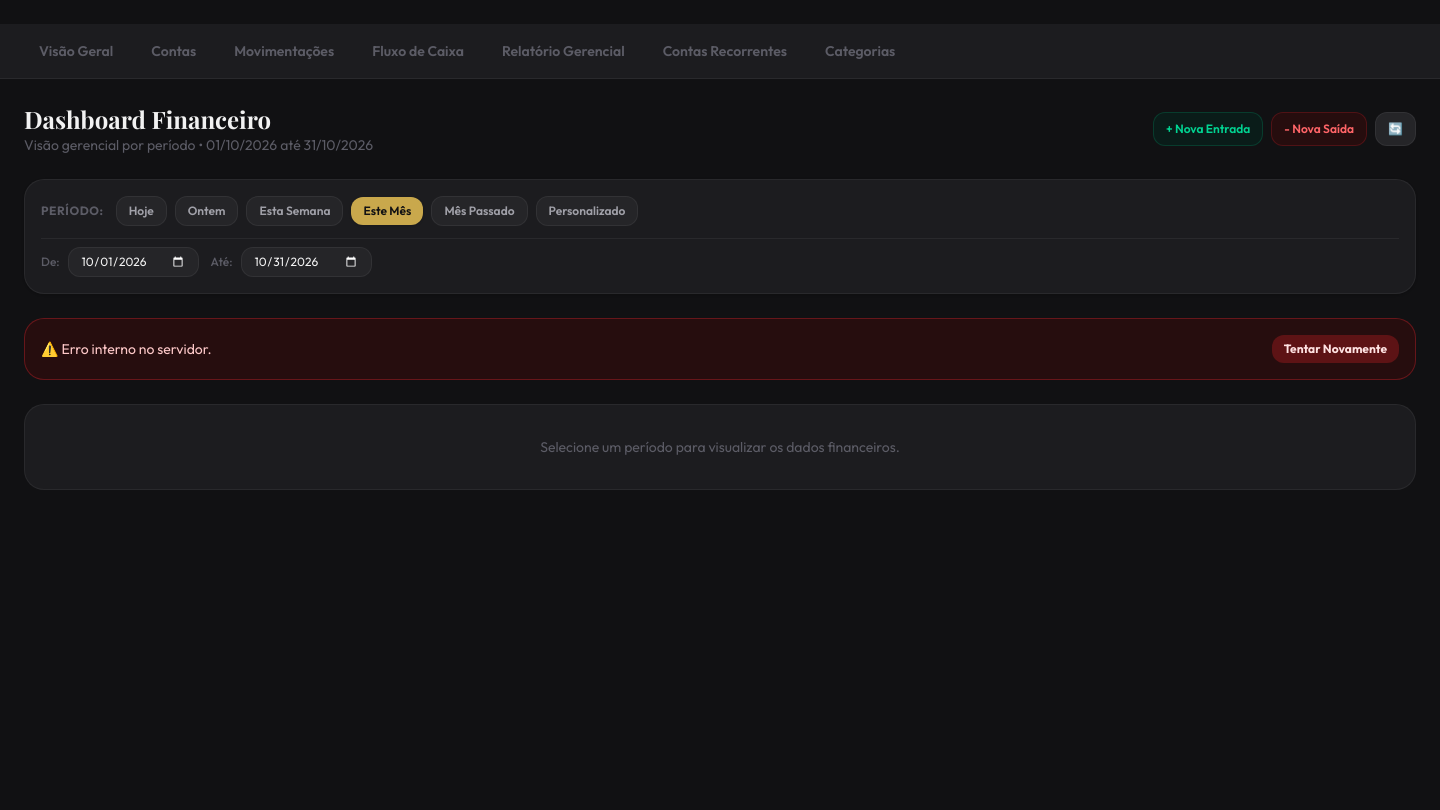
Test: Dashboard Financeiro por Período — PR #17 UI Tests › 12. Trata estado de erro e botão Tentar Novamente
expect the text "⚠️ Erro interno no servidor." is shown: met, box [41,339,212,359]
Click the button "Tentar Novamente": (1335, 349) [1272,335,1399,363]
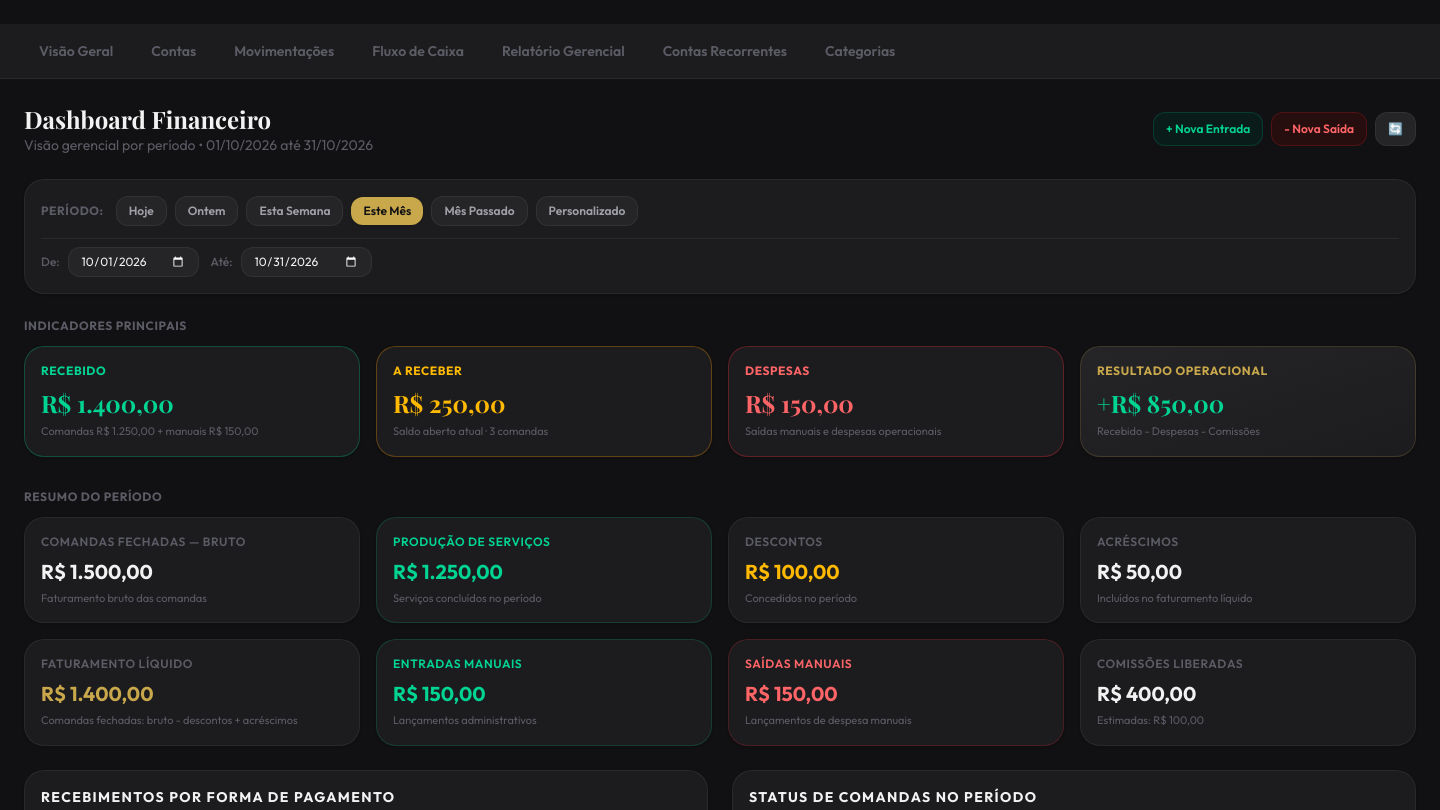
expect the text "Resultado Operacional" is shown: met, box [1097,363,1268,378]
